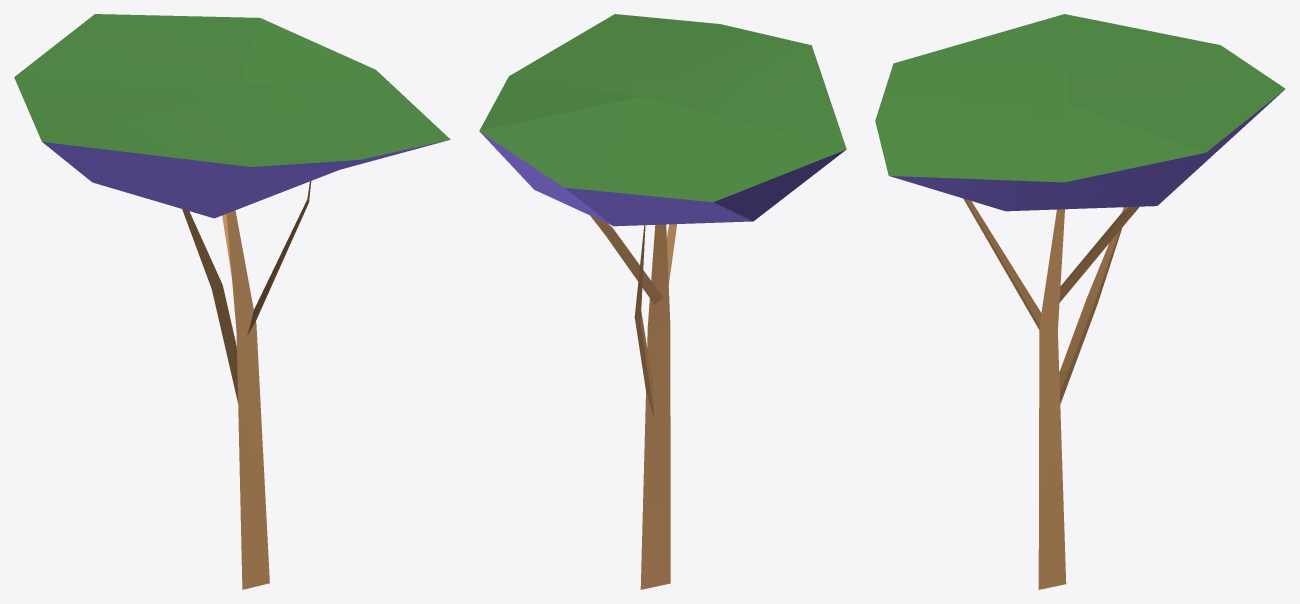
The model's file is tree_B_canopy_B_solo_LOD3.fbx.
3 renders of one model, left to right at view 1: azimuth 30°, elevation 25°; view 2: azimuth 150°, elevation 25°; view 3: azimuth 270°, elevation 25°, orthographic. The views are drawn at different scales.
Visible parts, largest first — view 1: tree_B_canopy_B, tree_B_canopy_B_trunks_A, tree_B_canopy_B_trunks_D, tree_B_canopy_B_trunks_B; view 2: tree_B_canopy_B, tree_B_canopy_B_trunks_A, tree_B_canopy_B_trunks_D, tree_B_canopy_B_trunk_C; view 3: tree_B_canopy_B, tree_B_canopy_B_trunks_A, tree_B_canopy_B_trunks_D, tree_B_canopy_B_trunks_B, tree_B_canopy_B_trunk_C.
Part boxes in pixels (bbox=[...]): tree_B_canopy_B: bbox=[14, 14, 450, 218]; tree_B_canopy_B_trunks_A: bbox=[226, 210, 269, 589]; tree_B_canopy_B_trunks_D: bbox=[182, 209, 238, 403]; tree_B_canopy_B_trunks_B: bbox=[247, 180, 311, 335]; tree_B_canopy_B: bbox=[479, 14, 846, 226]; tree_B_canopy_B_trunks_A: bbox=[640, 224, 670, 589]; tree_B_canopy_B_trunks_D: bbox=[634, 225, 654, 418]; tree_B_canopy_B_trunk_C: bbox=[590, 215, 663, 304]; tree_B_canopy_B: bbox=[875, 14, 1285, 211]; tree_B_canopy_B_trunks_A: bbox=[1038, 209, 1066, 589]; tree_B_canopy_B_trunks_D: bbox=[1059, 207, 1128, 403]; tree_B_canopy_B_trunks_B: bbox=[963, 198, 1041, 329]; tree_B_canopy_B_trunk_C: bbox=[1059, 206, 1139, 302].
Size of the model in its own units: 380 by 536 by 414.
